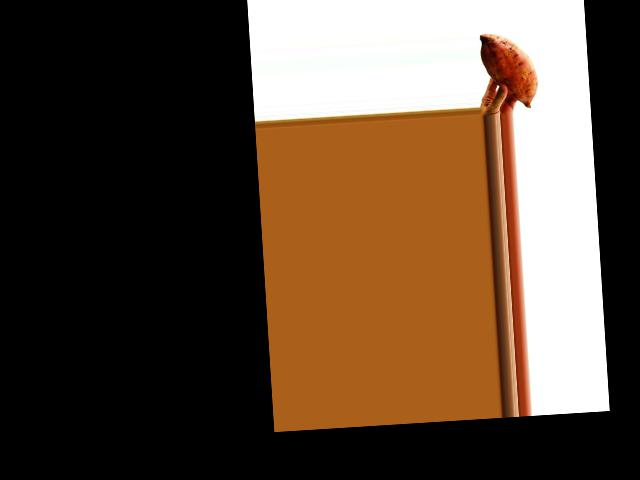sweet_potato: (477, 28, 544, 108)
